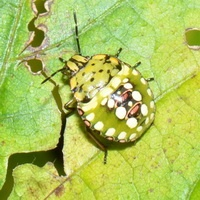insect: (42, 48, 155, 162)
